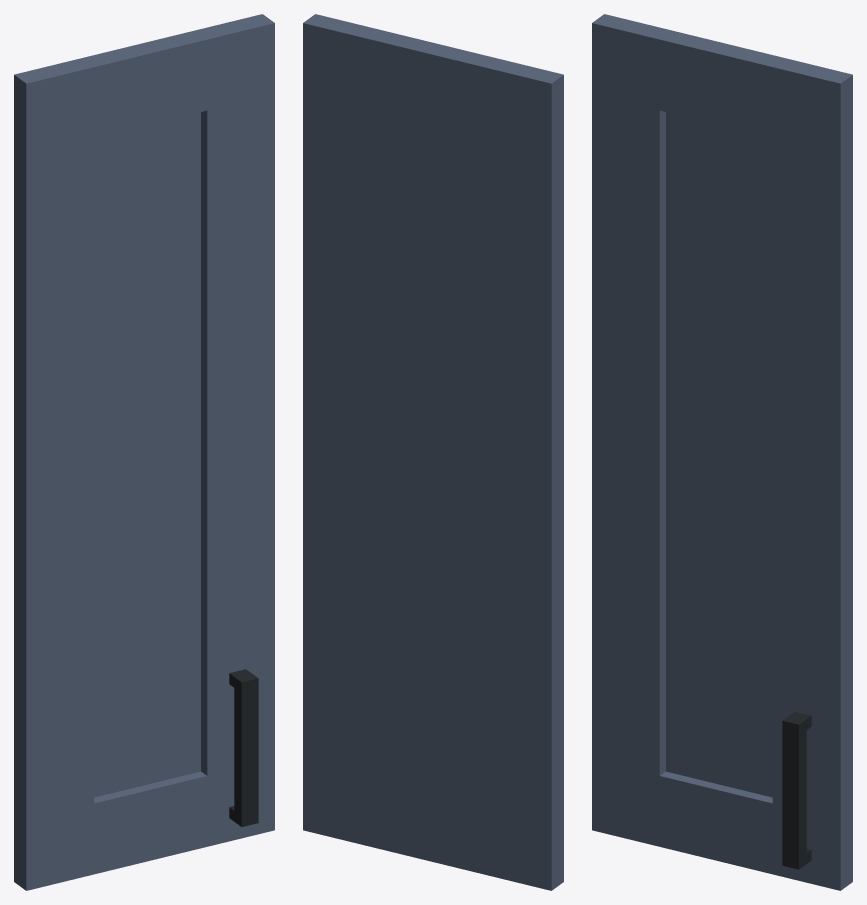
File: Door2_C4_14.fbx
The picture shows the model from 3 angles, left to right: view 1: azimuth 30°, elevation 25°; view 2: azimuth 150°, elevation 25°; view 3: azimuth 330°, elevation 25°; orthographic projection.
Parts seen in each view (by area): view 1: Door2_C4_14; view 2: Door2_C4_14; view 3: Door2_C4_14.
Part boxes in pixels (x1=…): Door2_C4_14: x1=14, y1=14, x2=274, y2=890; Door2_C4_14: x1=303, y1=14, x2=563, y2=890; Door2_C4_14: x1=592, y1=14, x2=852, y2=890.
Bounding box in the file's own units: 29 × 90 × 5.03.
